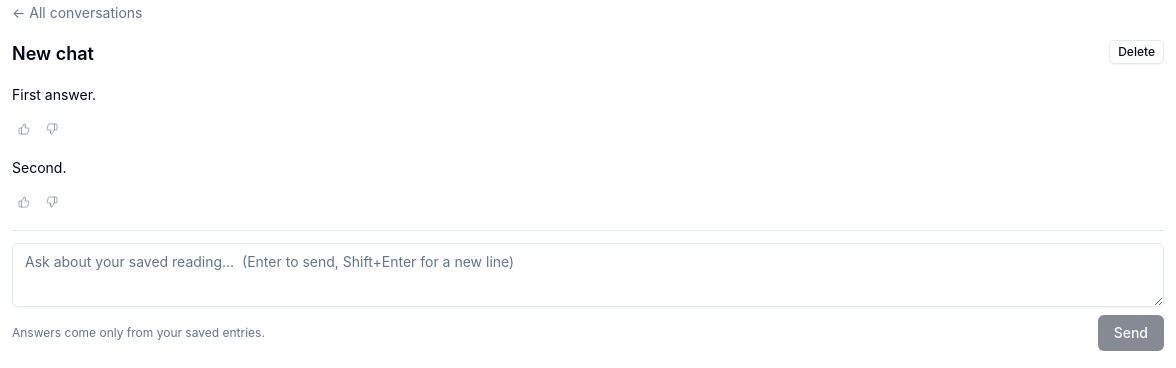
Test: chat feedback wiring › keeps votes independent per turn
Click the button named "Mark this answer helpful" below "First answer.".
click(24, 129)  # box [12,117,36,141]
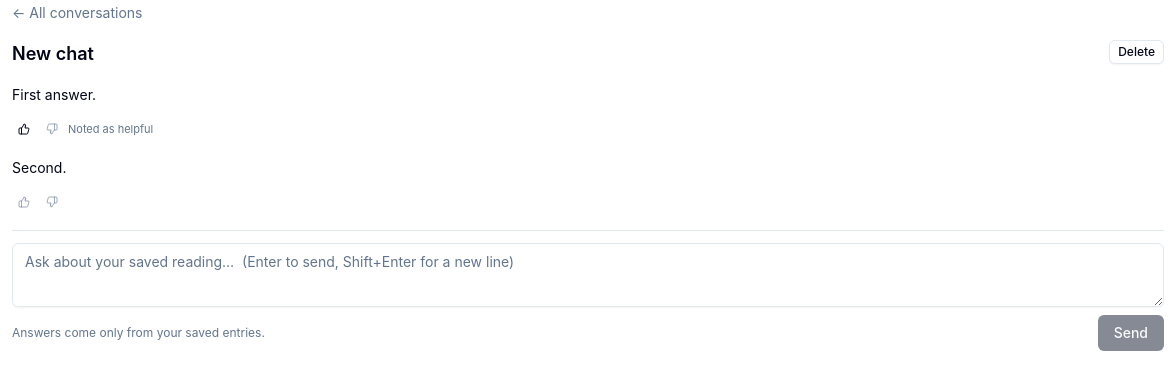
Expected: the text "Noted as helpful" is shown once, [68,120,153,137]
